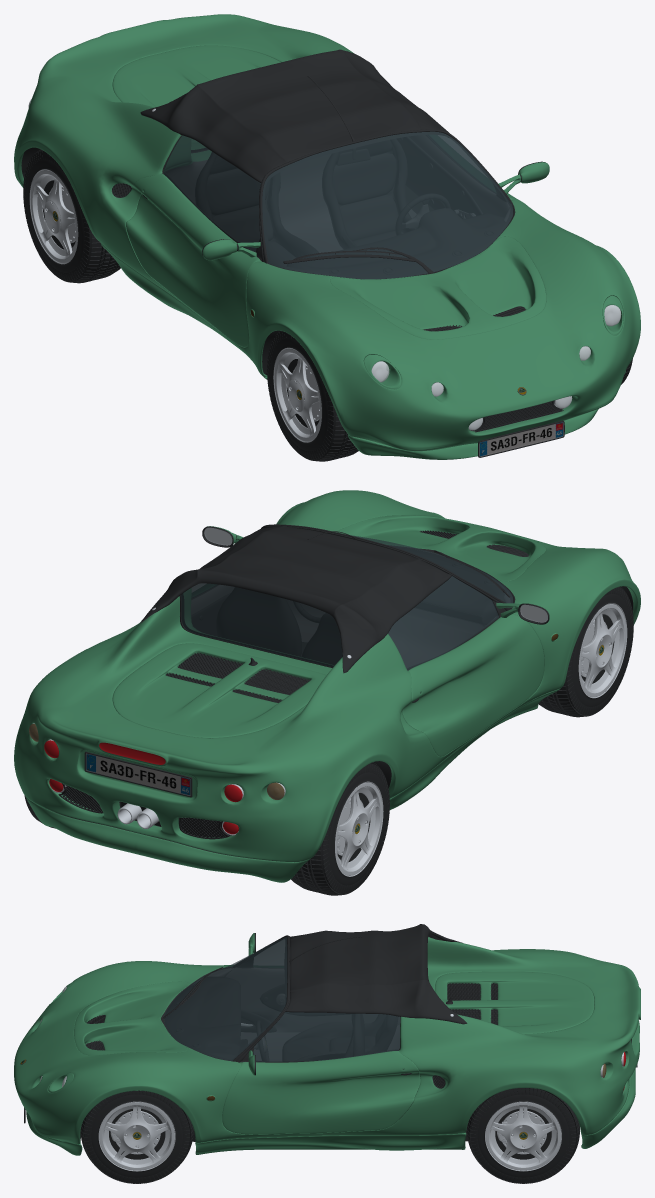
Rendered from lotus-elise-high.glb.
3 renders of one model, top to bottom at view 1: azimuth 30°, elevation 25°; view 2: azimuth 150°, elevation 25°; view 3: azimuth 270°, elevation 25°, orthographic. The views are drawn at different scales.
Parts seen in each view (by area): view 1: body, wheel_rear_right, wheel_front_right; view 2: body, wheel_rear_right, wheel_front_right; view 3: body, wheel_rear_left, wheel_front_left.
Boxes of the visible parts, x1,y1,x2,y2 form: body: (14,14,640,459); wheel_rear_right: (23,149,120,283); wheel_front_right: (267,331,358,461); body: (14,490,640,882); wheel_rear_right: (291,762,389,895); wheel_front_right: (538,586,633,717); body: (14,924,640,1155); wheel_rear_left: (467,1088,579,1183); wheel_front_left: (80,1090,193,1183).
Bounding box in the file's own units: 1.91 × 1.28 × 3.79.
16 materials, 3 textured.
